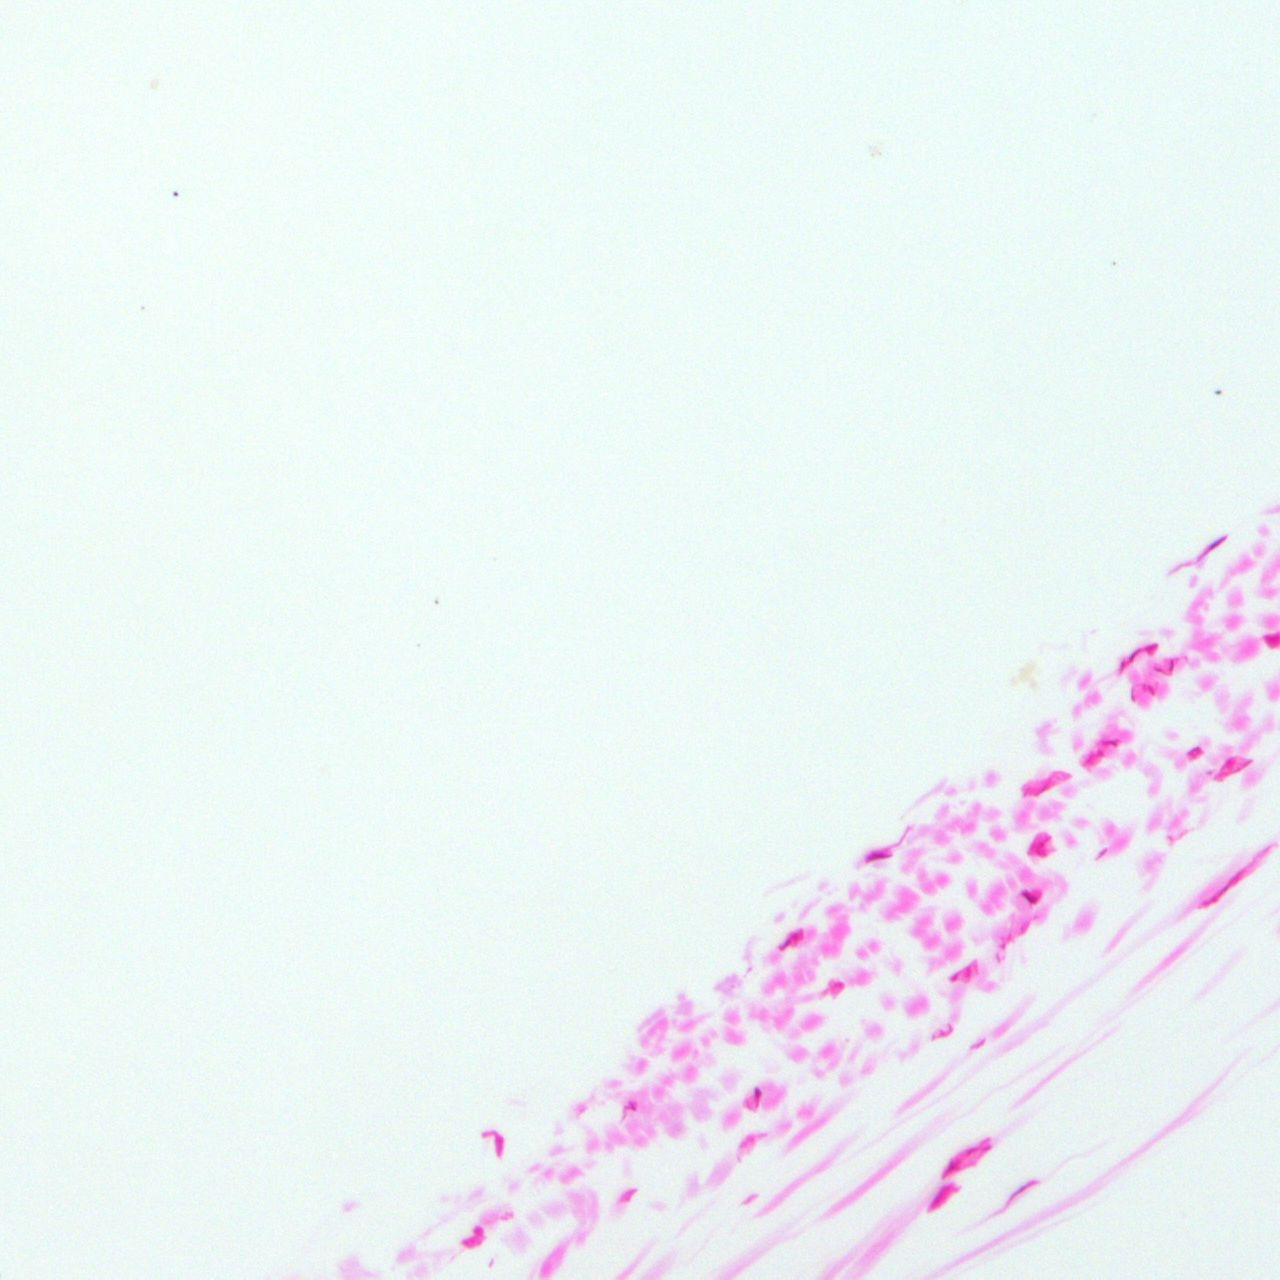dust: (171, 190, 179, 198), (1213, 389, 1222, 395), (1112, 260, 1116, 266), (434, 599, 438, 603), (141, 306, 144, 309)
nucleus-FG: (1197, 855, 1262, 912), (938, 1130, 996, 1185), (1019, 765, 1072, 800), (994, 1175, 1044, 1212), (926, 1177, 960, 1211), (949, 959, 984, 990), (1196, 534, 1229, 560), (1219, 758, 1255, 780), (777, 928, 804, 953), (1080, 747, 1106, 768), (1118, 647, 1140, 671), (865, 849, 894, 862), (493, 1131, 505, 1158), (1186, 744, 1205, 761), (1021, 888, 1039, 905), (1265, 632, 1280, 647), (752, 1087, 762, 1109), (1098, 738, 1122, 747), (1144, 643, 1159, 656), (1151, 665, 1168, 676), (1128, 686, 1135, 703), (1167, 657, 1174, 672), (1146, 684, 1154, 696)
